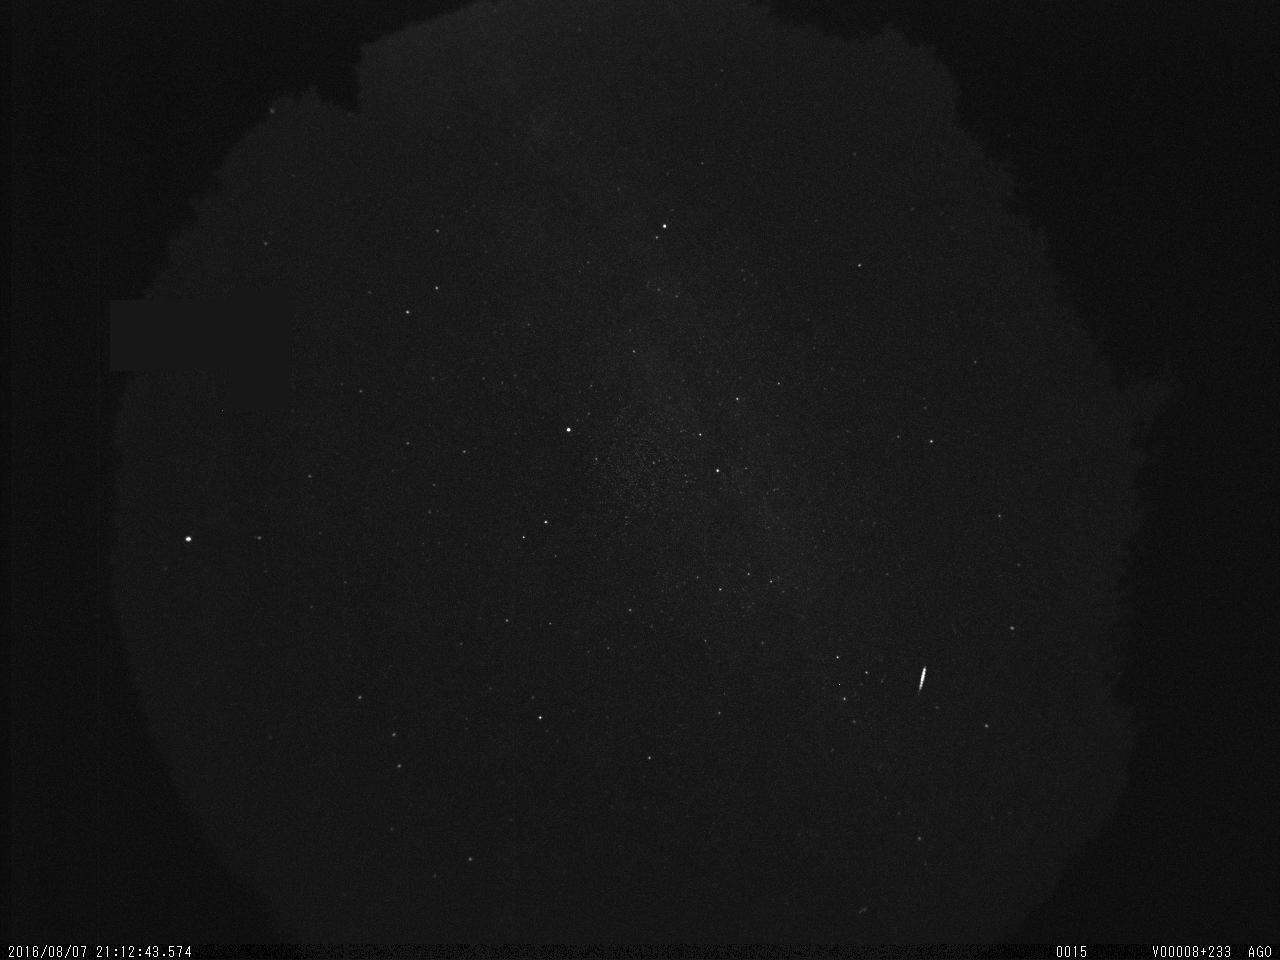meteor: (899, 642, 943, 713)
